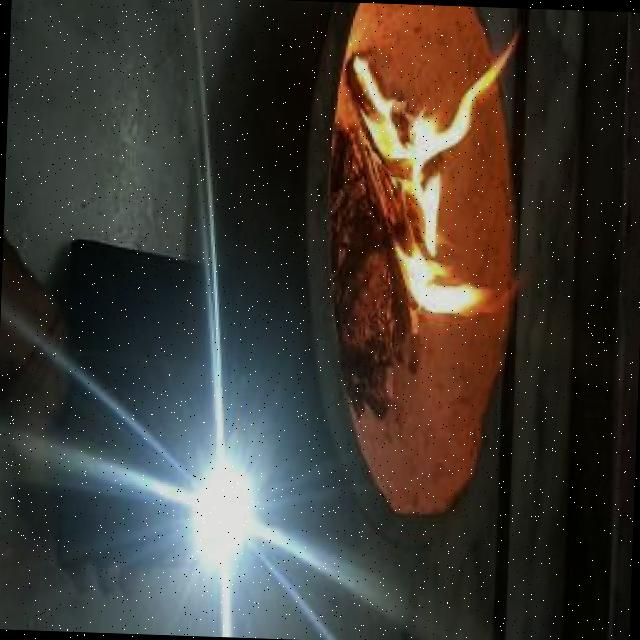fire: (356, 72, 512, 347)
